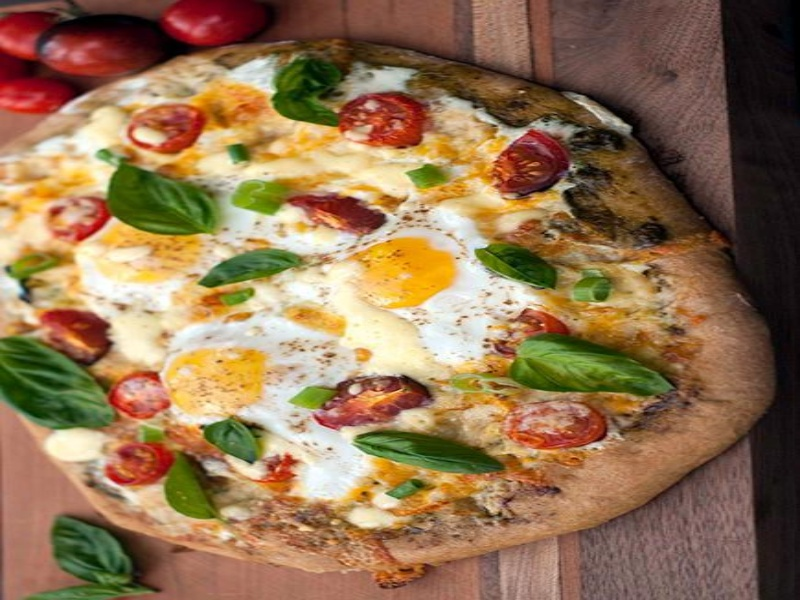oeuf: (155, 335, 321, 431), (335, 227, 459, 319)
